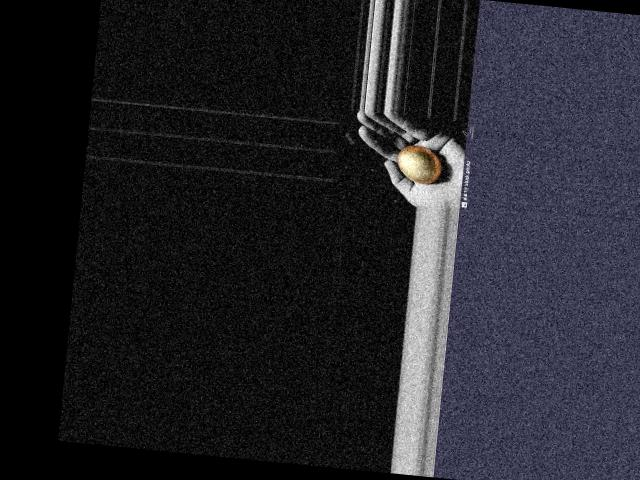egg: (395, 143, 442, 184)
